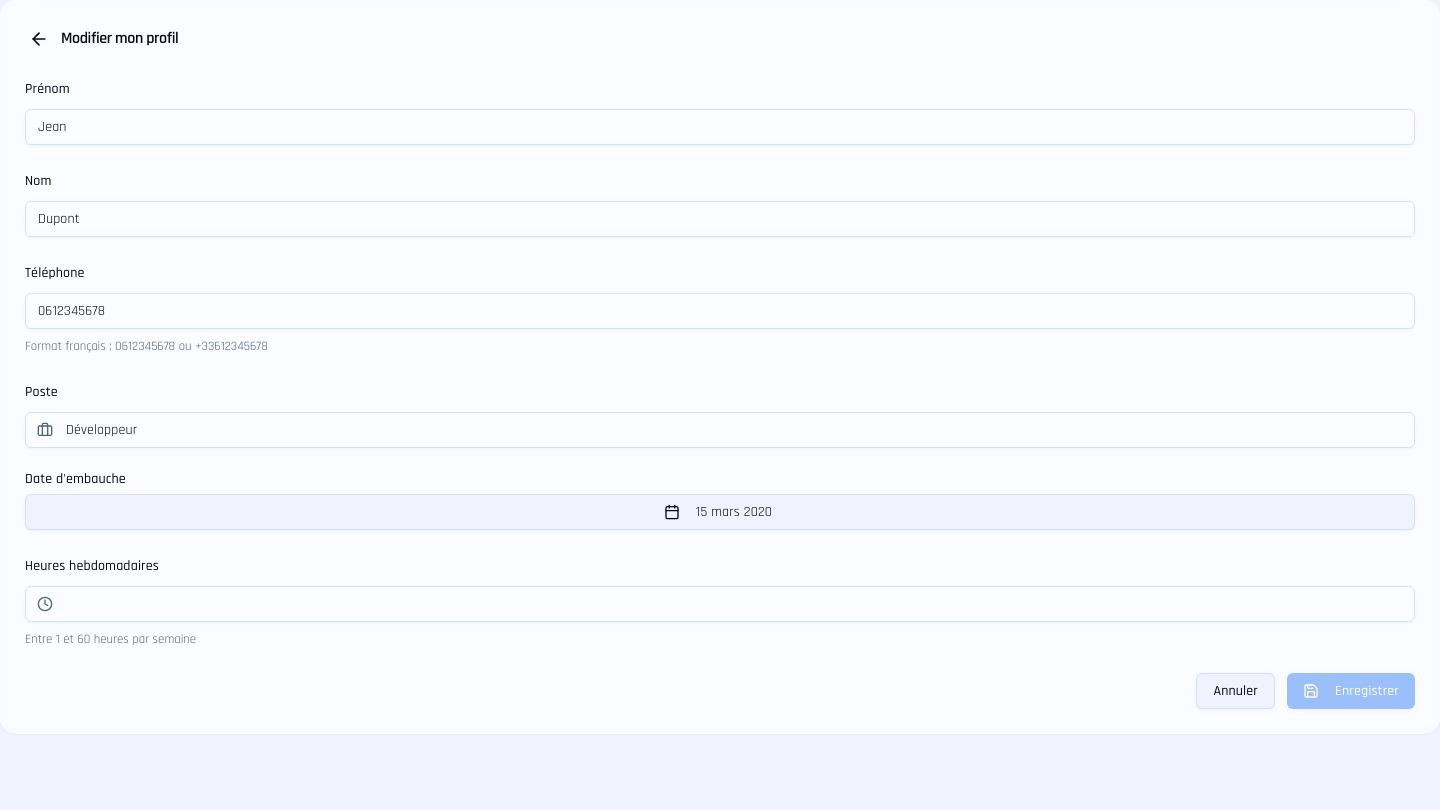
EditProfileForm › Validation côté client › should show error for invalid phone format
Type "123" into the field with test id "input-phone" at point(720, 311), box x1=25 y1=293 x2=1415 y2=329
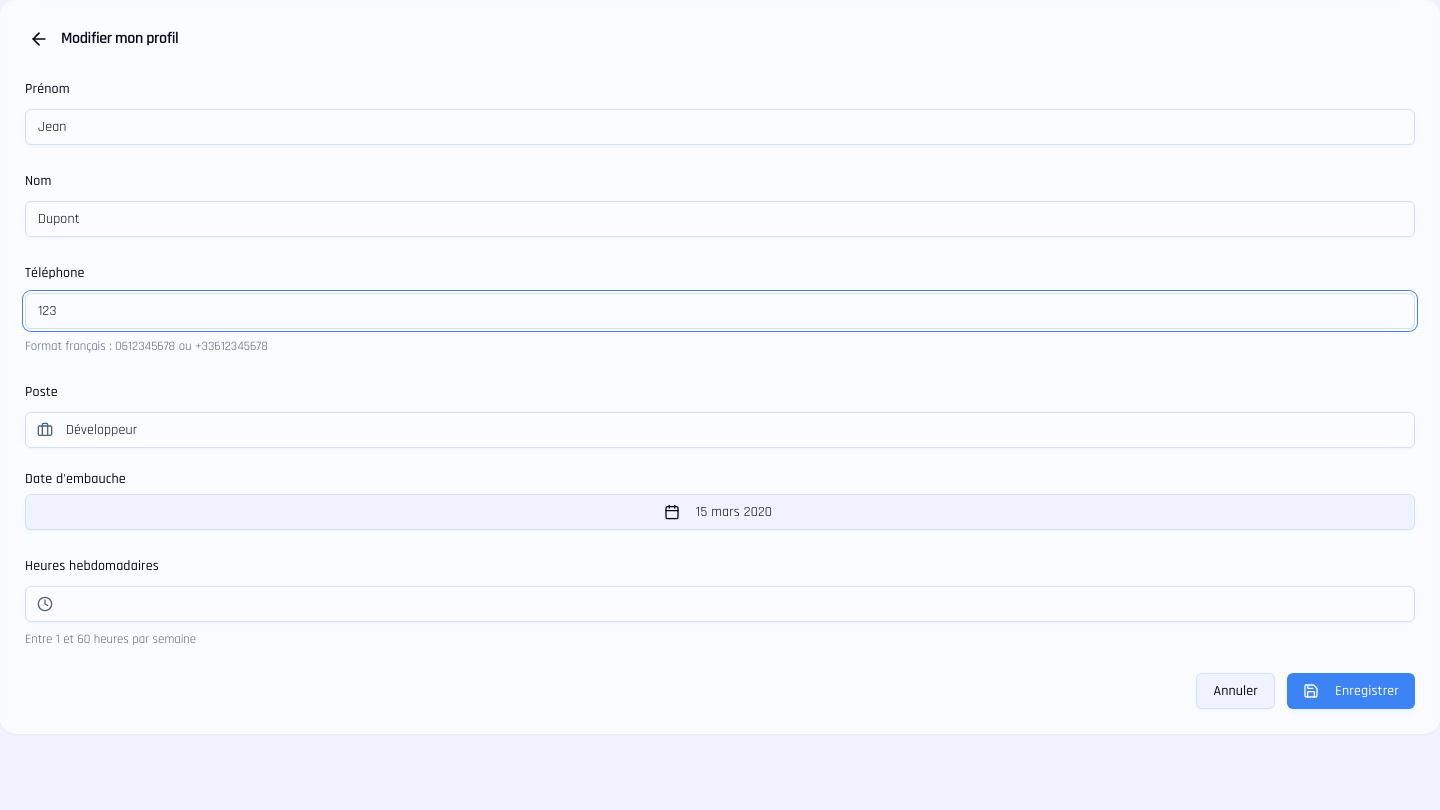
Press Tab
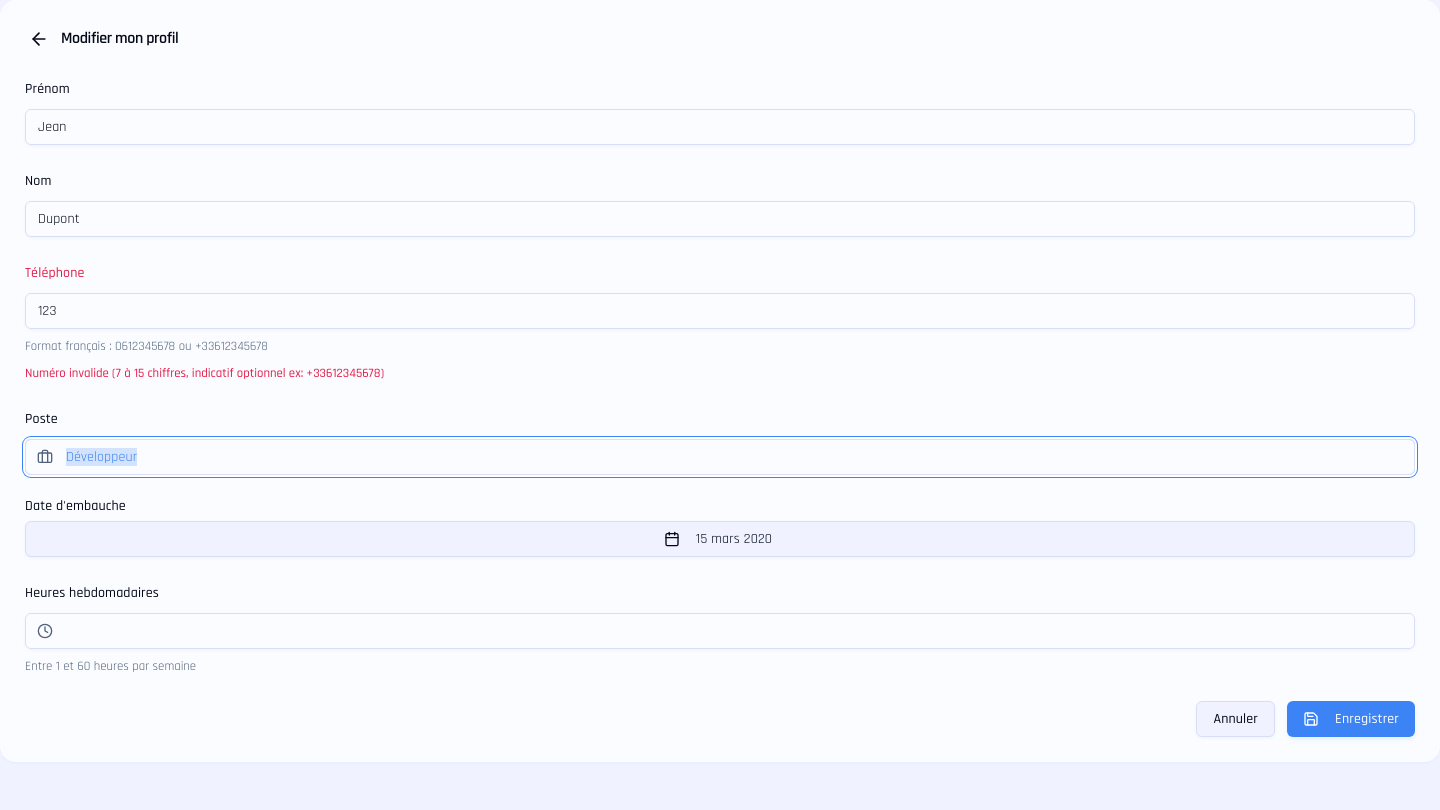
Result: the text "Numéro invalide" is shown at x1=25 y1=365 x2=384 y2=381
